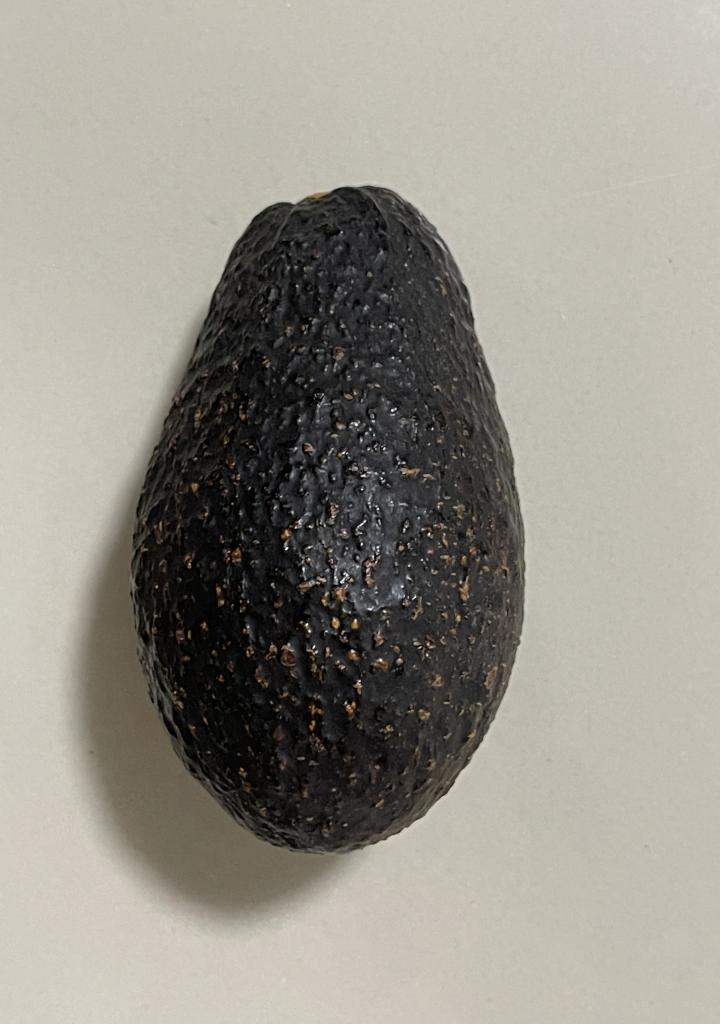Level2: (126, 178, 537, 864)
